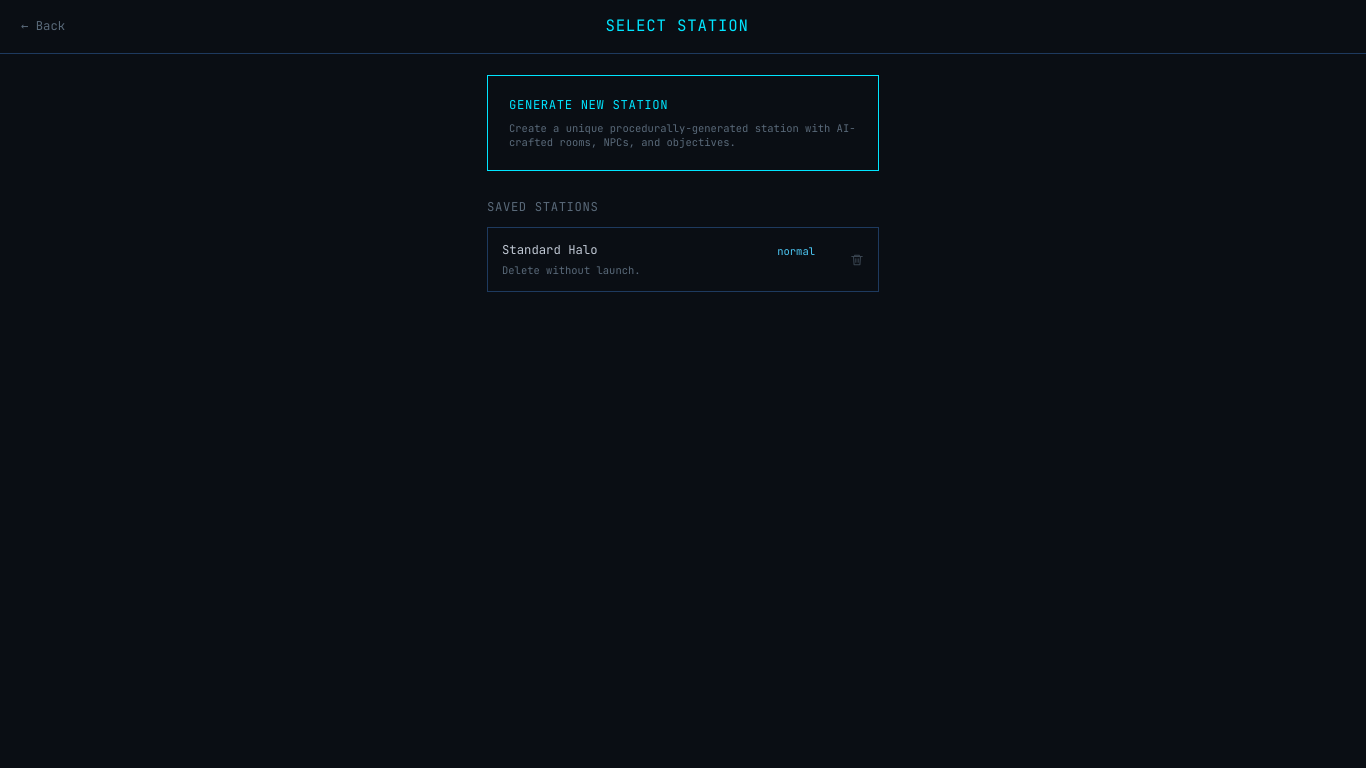
Test case: StationPickerScreen deletion contracts › [S] completes the standard confirm-delete flow without selecting the station row
Click the button named "delete standard halo" at (857, 260), box [836,228,878,291]
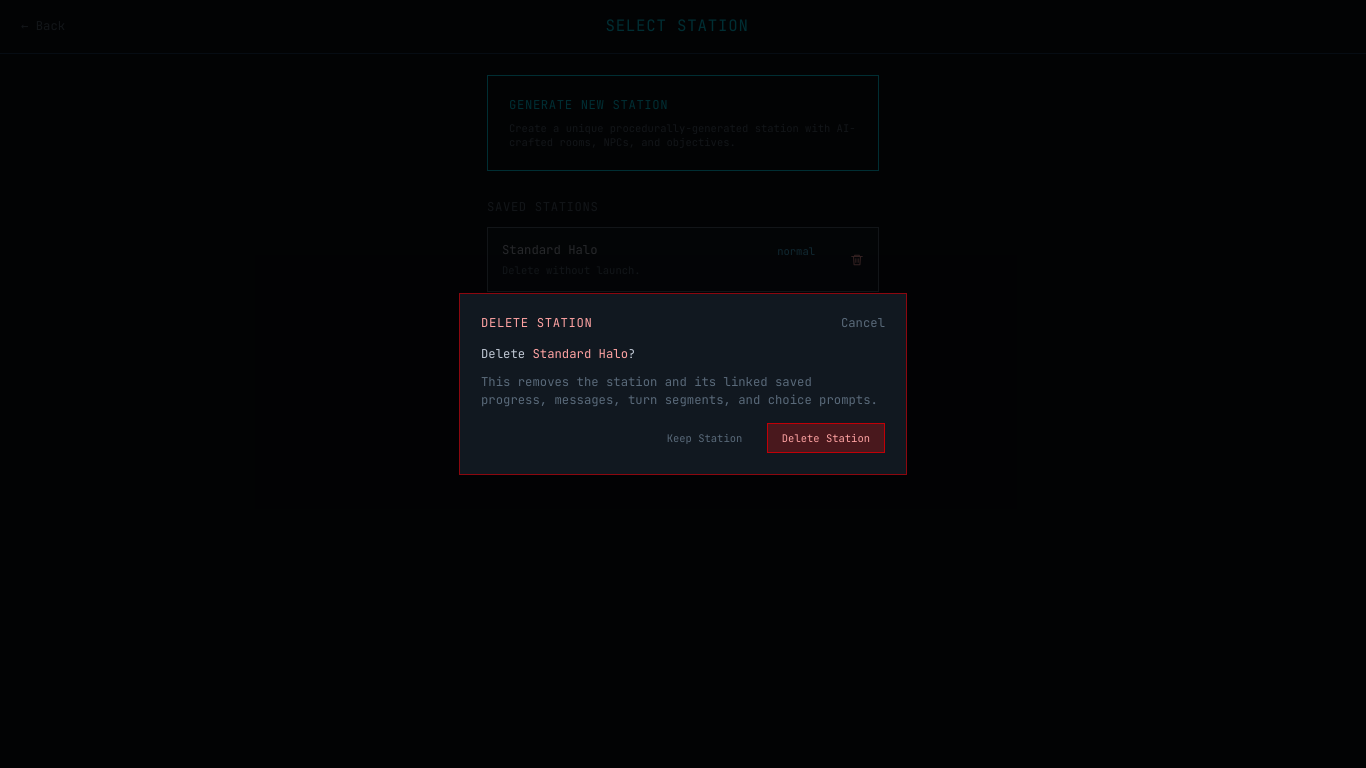
Click the button "Delete Station" at (826, 438), box [767,423,885,453]
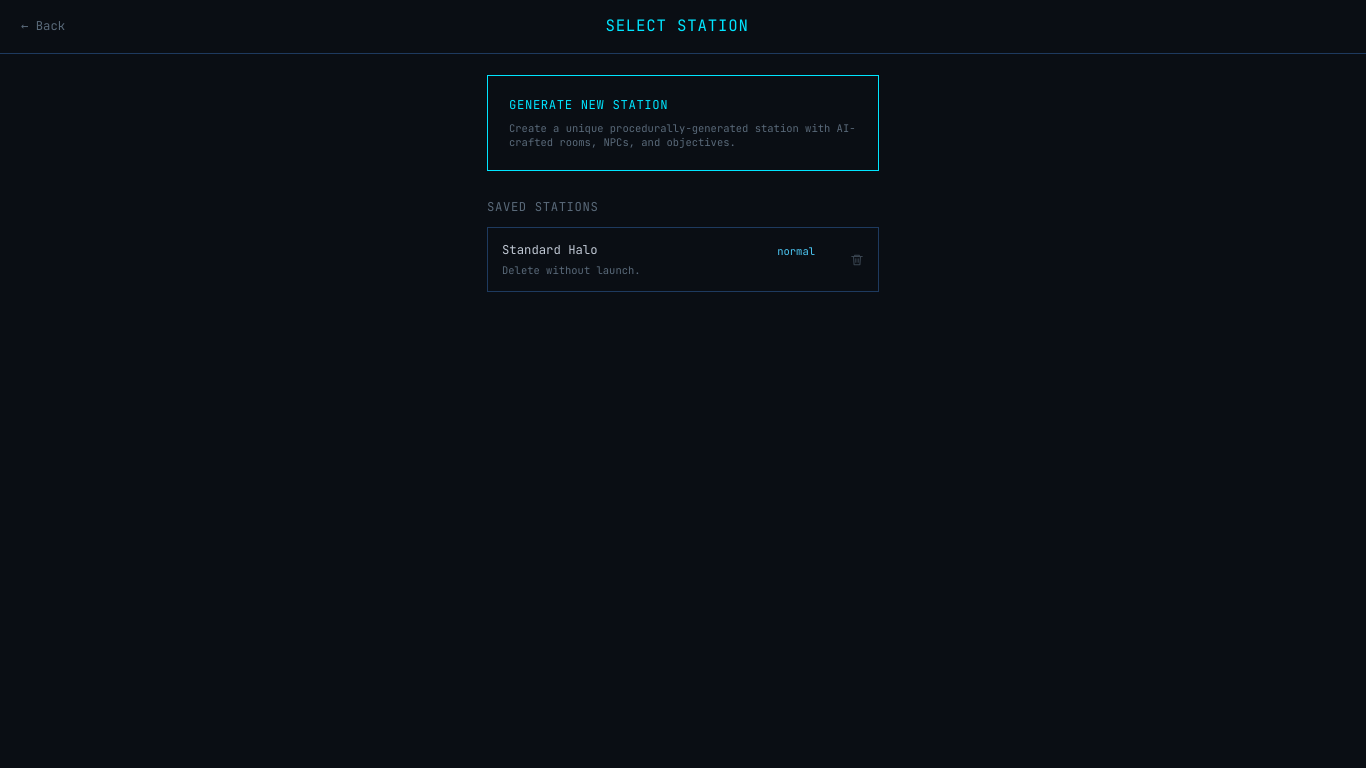
Expected: the heading "Delete Station" is gone
